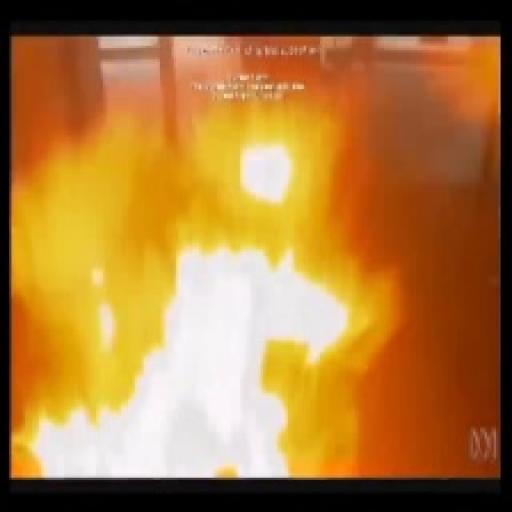fire: (16, 219, 395, 480), (222, 128, 306, 217)
